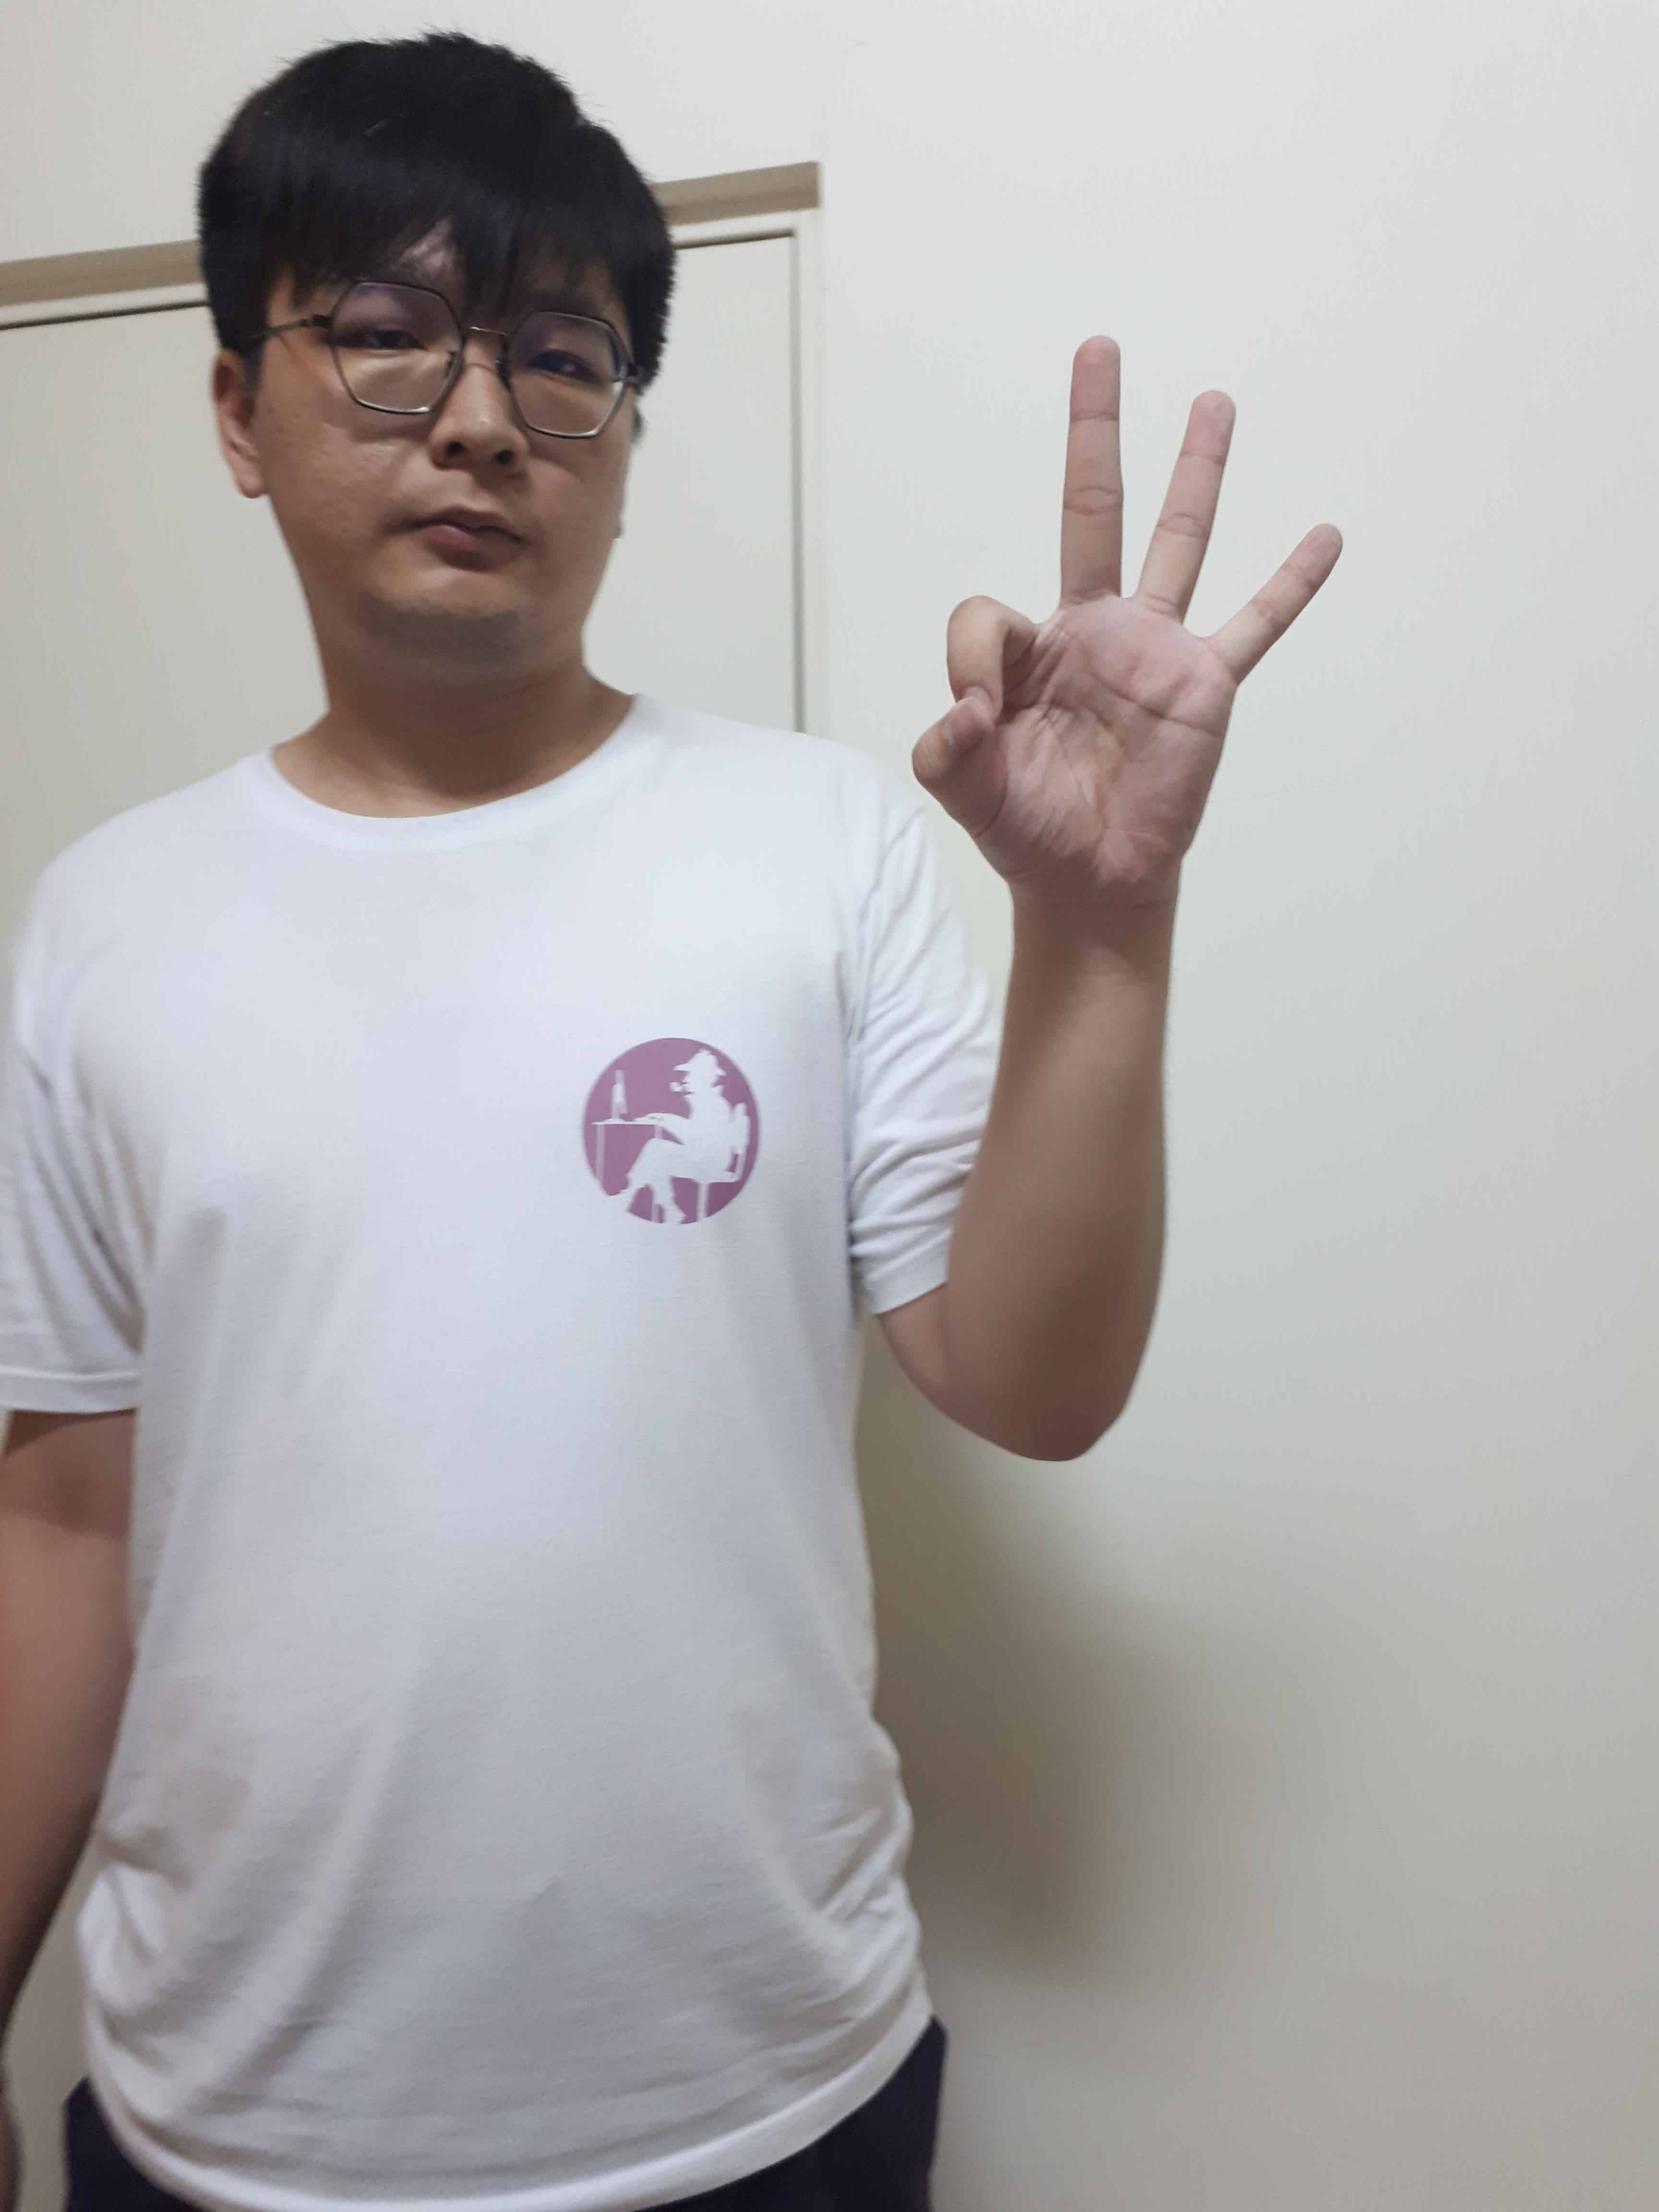ok: (910, 329, 1361, 937)
